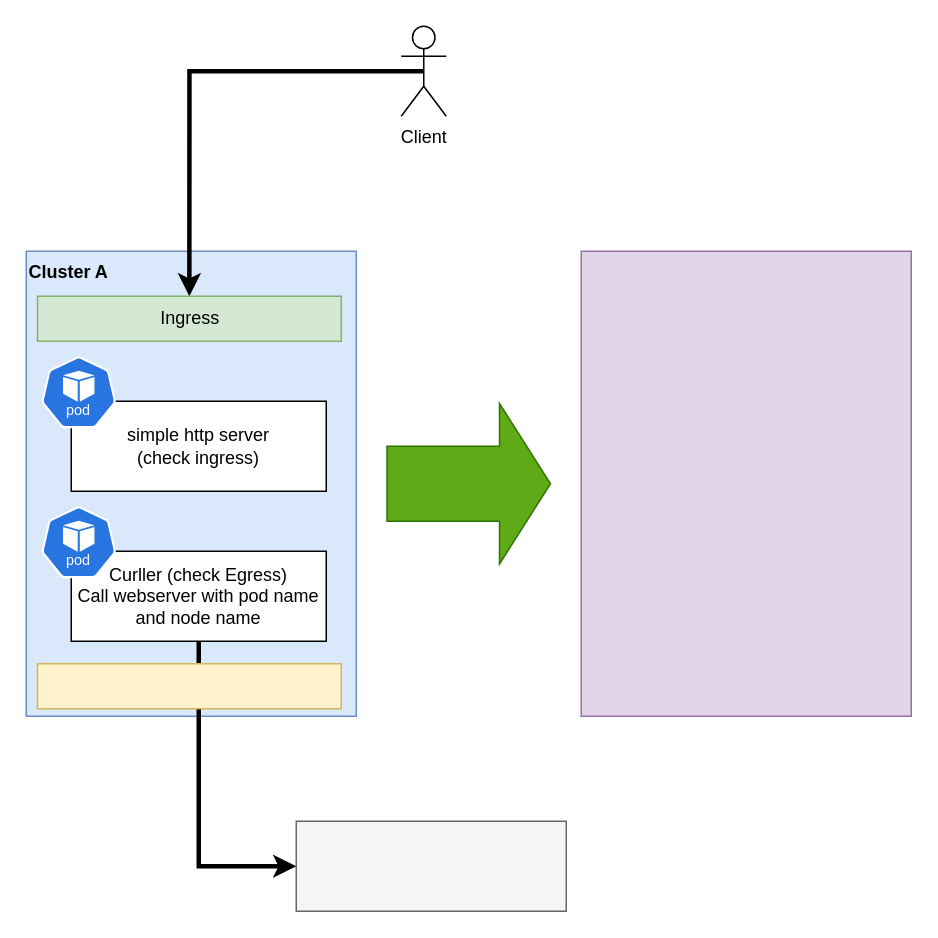
The diagram is 938 pixels wide and 938 high, and some of its shapes have lost their labels. Here are the shapes that lost their labels. From the top down, the centre of each, then its label:
point 745,483: Cluster B
point 188,685: Egress
point 430,865: External Webserver Logging all requests
